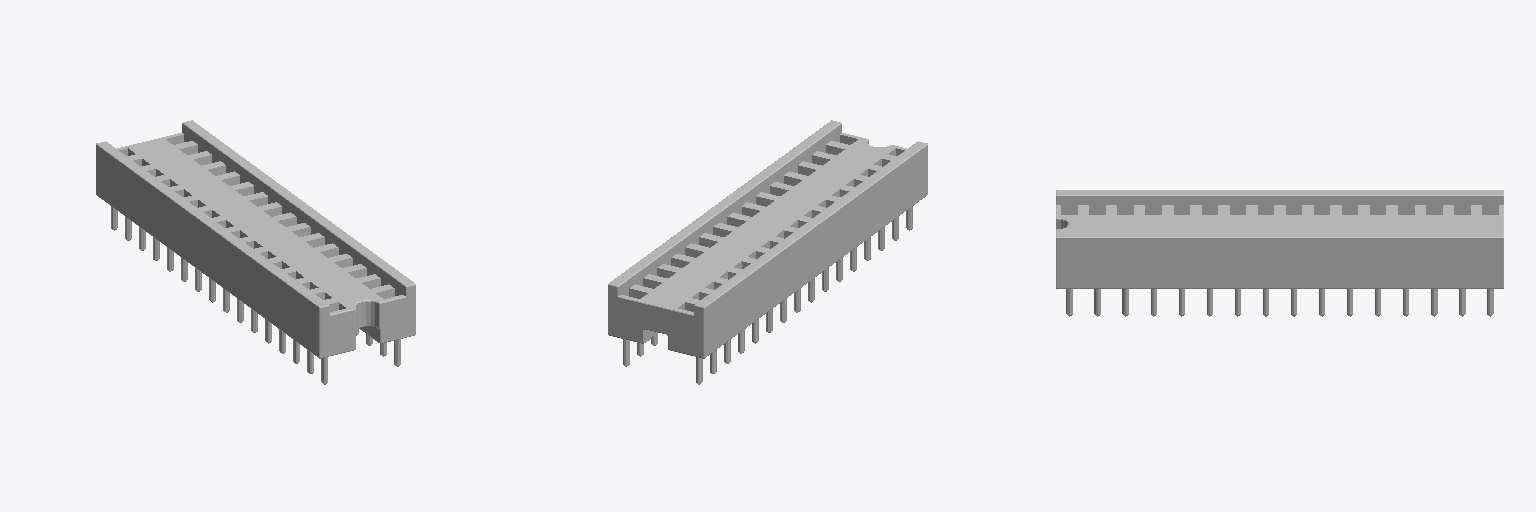
File: IC_Sockel_32P.obj
The picture shows the model from 3 angles: view 1: azimuth 30°, elevation 25°; view 2: azimuth 150°, elevation 25°; view 3: azimuth 270°, elevation 25°; orthographic projection.
Visible parts, largest first — view 1: Volumenkörper1; view 2: Volumenkörper1; view 3: Volumenkörper1.
Part boxes in pixels (x1,y1,x2,y2): Volumenkörper1: (96, 120, 415, 384); Volumenkörper1: (608, 120, 927, 384); Volumenkörper1: (1056, 190, 1503, 316).
Size of the model in its own units: 10.16 by 8.46 by 40.64.